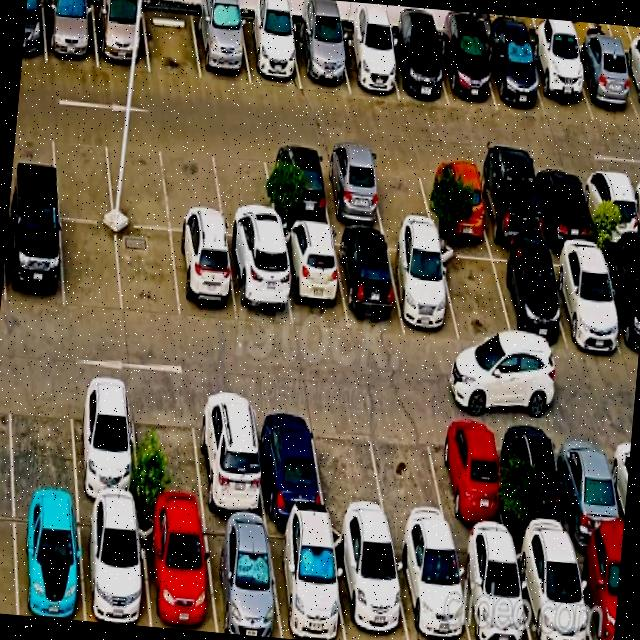empty: (368, 409, 451, 535), (310, 405, 388, 530), (131, 385, 204, 514), (8, 375, 76, 500), (438, 243, 513, 345), (211, 141, 277, 240), (104, 131, 169, 229), (51, 125, 113, 222), (162, 137, 224, 233), (116, 226, 179, 320), (60, 220, 122, 312), (368, 152, 434, 231), (142, 6, 201, 79)
occupied: (432, 412, 508, 541), (202, 516, 282, 638), (139, 511, 216, 632), (193, 391, 265, 520), (267, 523, 345, 640), (252, 397, 325, 522), (70, 378, 139, 507), (502, 416, 572, 543), (553, 421, 623, 546), (331, 527, 408, 640), (79, 504, 150, 626), (14, 500, 83, 621), (391, 535, 470, 640), (546, 246, 623, 352), (452, 537, 530, 640), (513, 541, 591, 640), (489, 246, 565, 345), (385, 237, 458, 340), (333, 232, 403, 332), (279, 228, 347, 330), (171, 231, 237, 322), (226, 238, 292, 328), (5, 209, 63, 309), (474, 161, 543, 244), (421, 157, 488, 238), (571, 47, 640, 125), (264, 146, 330, 227), (319, 149, 384, 229), (526, 44, 593, 121), (531, 164, 595, 243), (483, 37, 545, 116), (580, 167, 640, 246), (573, 544, 622, 640), (436, 34, 496, 110), (386, 34, 448, 105), (240, 17, 301, 89), (600, 249, 640, 358), (337, 29, 398, 99), (192, 11, 250, 84), (92, 2, 149, 72), (292, 25, 349, 92), (42, 0, 97, 67), (619, 53, 640, 122)
